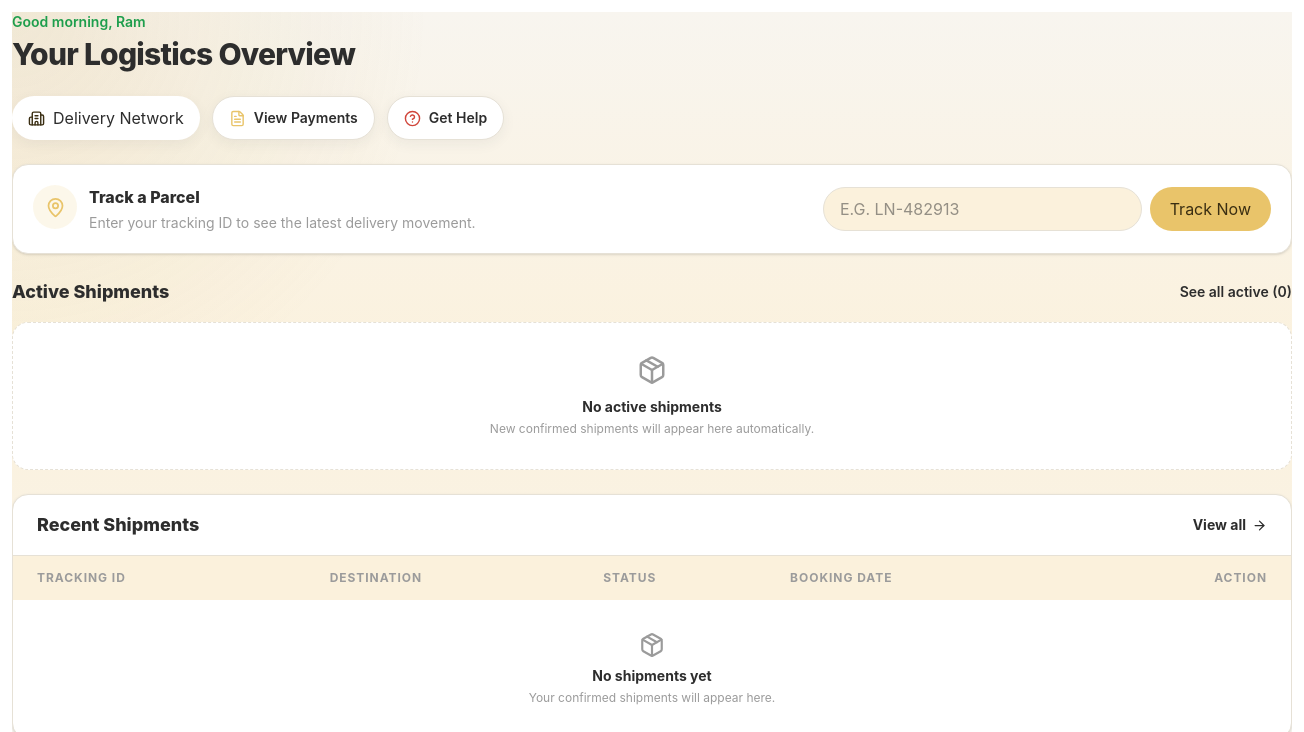
Test: customer dashboard navigation and profile › shows empty dashboard state and validates tracking input
Expected: the text "No active shipments" is shown, x1=582 y1=398 x2=722 y2=415
Click the button "Track Now" at (1210, 209), box x1=1150 y1=187 x2=1271 y2=231
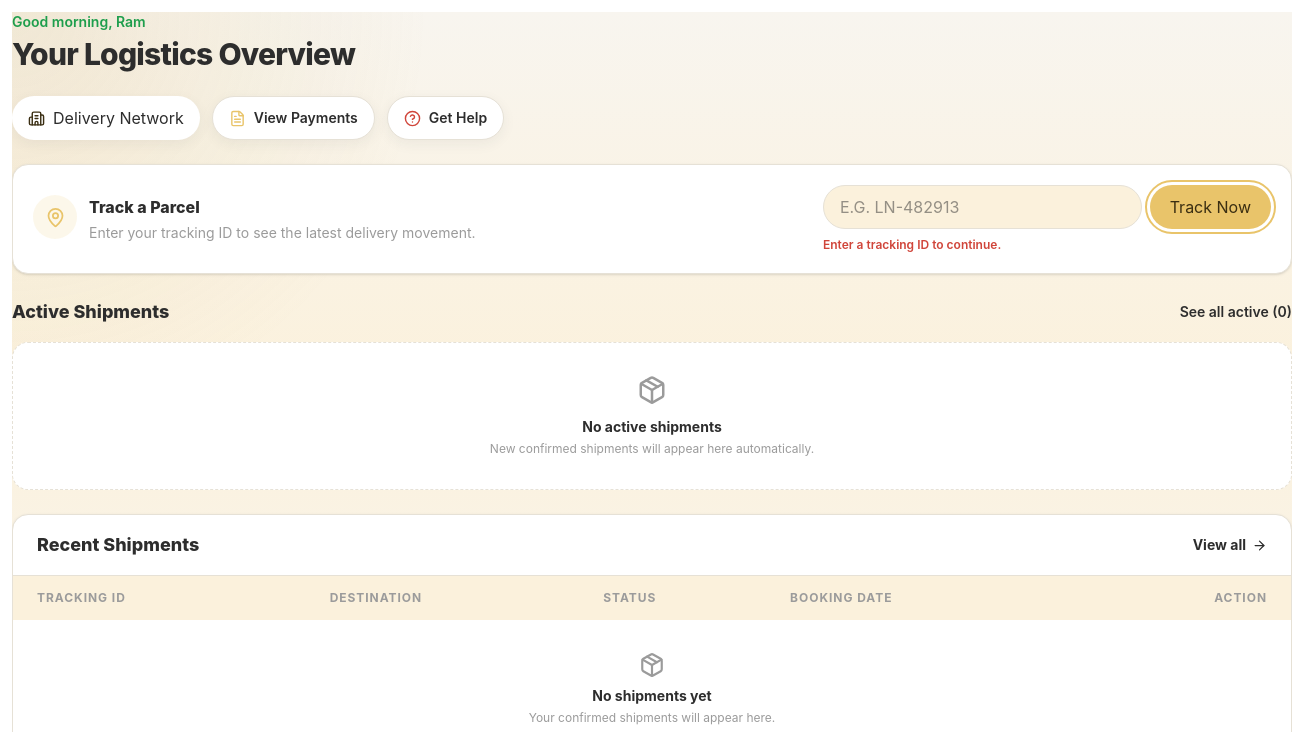
Expected: the message reads "Enter a tracking ID to continue.", x1=823 y1=237 x2=1001 y2=252
